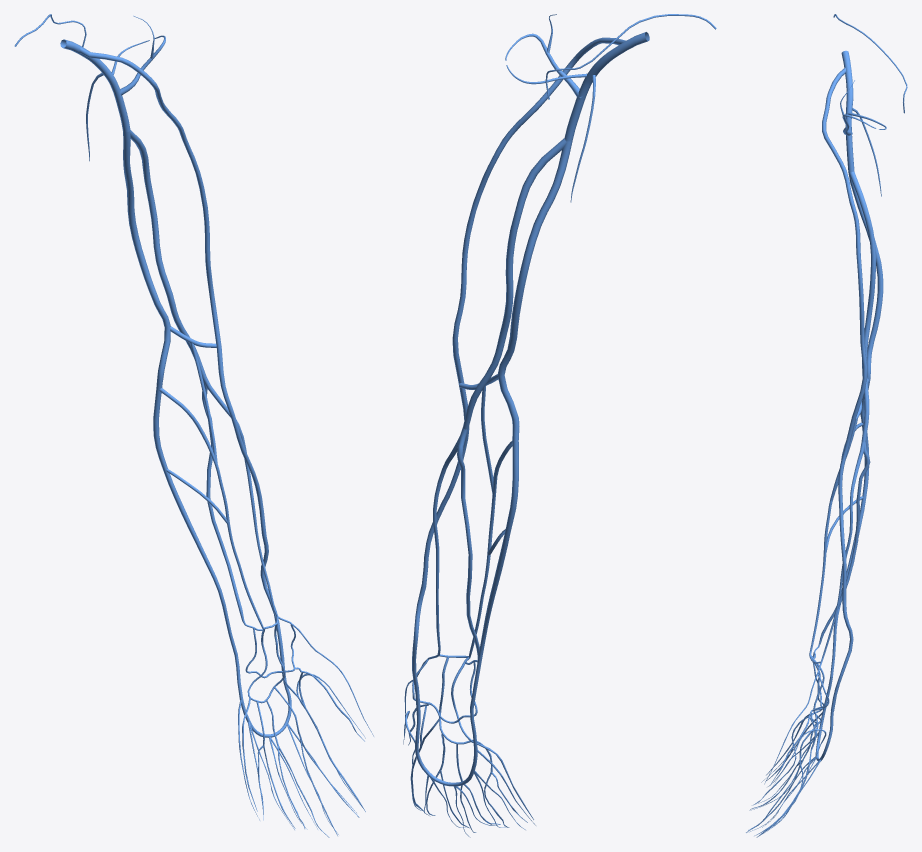
File: veins.glb
3 renders of one model, left to right at view 1: azimuth 30°, elevation 25°; view 2: azimuth 150°, elevation 25°; view 3: azimuth 270°, elevation 25°, orthographic. The views are drawn at different scales.
Visible parts, largest first — view 1: Cephalic vein.l.001, Basilic vein.l.001, Palmar digital veins.l.001, Brachial veins.l.001, Dorsal digital veins of hand.l.001, Median antebrachial vein.l.001, Axillary vein.l.001, Ulnar veins.l.001, Radial veins.l.001, Median cubital vein.l.001; view 2: Basilic vein.l.001, Cephalic vein.l.001, Brachial veins.l.001, Palmar digital veins.l.001, Axillary vein.l.001, Ulnar veins.l.001, Median antebrachial vein.l.001, Dorsal digital veins of hand.l.001, Radial veins.l.001, Dorsal venous network of hand.l.001, Median cubital vein.l.001; view 3: Cephalic vein.l.001, Basilic vein.l.001, Palmar digital veins.l.001, Brachial veins.l.001, Dorsal digital veins of hand.l.001, Axillary vein.l.001, Median antebrachial vein.l.001, Ulnar veins.l.001, Radial veins.l.001, Dorsal venous network of hand.l.001.
Part boxes in pixels (x1,y1,x2,y2): Cephalic vein.l.001: (79, 47, 284, 661); Basilic vein.l.001: (123, 130, 237, 656); Palmar digital veins.l.001: (242, 667, 365, 837); Brachial veins.l.001: (130, 130, 206, 378); Dorsal digital veins of hand.l.001: (238, 622, 373, 834); Median antebrachial vein.l.001: (159, 388, 278, 631); Axillary vein.l.001: (60, 39, 130, 132); Ulnar veins.l.001: (202, 378, 262, 630); Radial veins.l.001: (203, 377, 289, 622); Median cubital vein.l.001: (170, 326, 217, 464); Basilic vein.l.001: (470, 140, 572, 709); Cephalic vein.l.001: (412, 37, 625, 715); Brachial veins.l.001: (463, 138, 566, 429); Palmar digital veins.l.001: (408, 702, 533, 832); Axillary vein.l.001: (564, 32, 649, 141); Ulnar veins.l.001: (457, 427, 479, 664); Median antebrachial vein.l.001: (439, 441, 512, 662); Dorsal digital veins of hand.l.001: (403, 658, 535, 837); Radial veins.l.001: (428, 427, 467, 659); Dorsal venous network of hand.l.001: (415, 708, 477, 786); Median cubital vein.l.001: (459, 374, 498, 494); Cephalic vein.l.001: (822, 67, 867, 711); Basilic vein.l.001: (830, 172, 883, 676); Palmar digital veins.l.001: (746, 710, 821, 837); Brachial veins.l.001: (849, 171, 876, 441); Dorsal digital veins of hand.l.001: (747, 672, 826, 835); Axillary vein.l.001: (841, 50, 854, 172); Median antebrachial vein.l.001: (809, 422, 863, 663); Ulnar veins.l.001: (813, 441, 870, 658); Radial veins.l.001: (817, 441, 864, 672); Dorsal venous network of hand.l.001: (815, 677, 833, 761).
Bounding box in the file's own units: 0.288 × 0.7146 × 0.1474.
